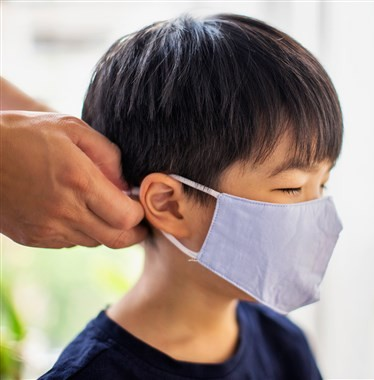with_mask: (153, 55, 364, 336)
